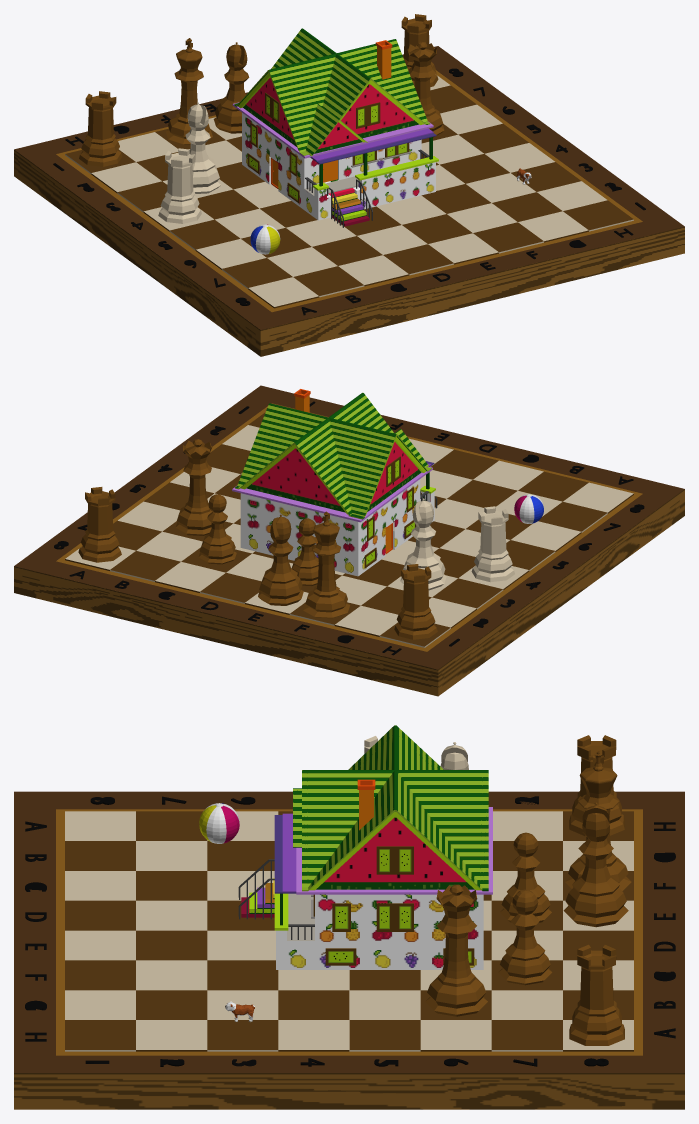
The picture shows the model from 3 angles, top to bottom: view 1: azimuth 30°, elevation 25°; view 2: azimuth 150°, elevation 25°; view 3: azimuth 270°, elevation 25°; orthographic projection. The views are drawn at different scales.
Parts seen in each view (by area): view 1: Cube.002, Cube.1063, OBJRANDOM_BEACHBALL; view 2: Cube.002, Cube.1063, OBJRANDOM_BEACHBALL; view 3: Cube.002, Cube.1063, OBJRANDOM_BEACHBALL.
Part boxes in pixels (<box>): Cube.002: <box>14,14,684,356</box>; Cube.1063: <box>232,28,438,227</box>; OBJRANDOM_BEACHBALL: <box>250,224,280,254</box>; Cube.002: <box>14,385,684,696</box>; Cube.1063: <box>232,389,437,576</box>; OBJRANDOM_BEACHBALL: <box>514,494,543,523</box>; Cube.002: <box>14,735,684,1109</box>; Cube.1063: <box>238,725,492,969</box>; OBJRANDOM_BEACHBALL: <box>199,803,239,843</box>.
Bounding box in the file's own units: 3981 × 1488 × 4012.
Materials: 28 (4 with a texture image).
